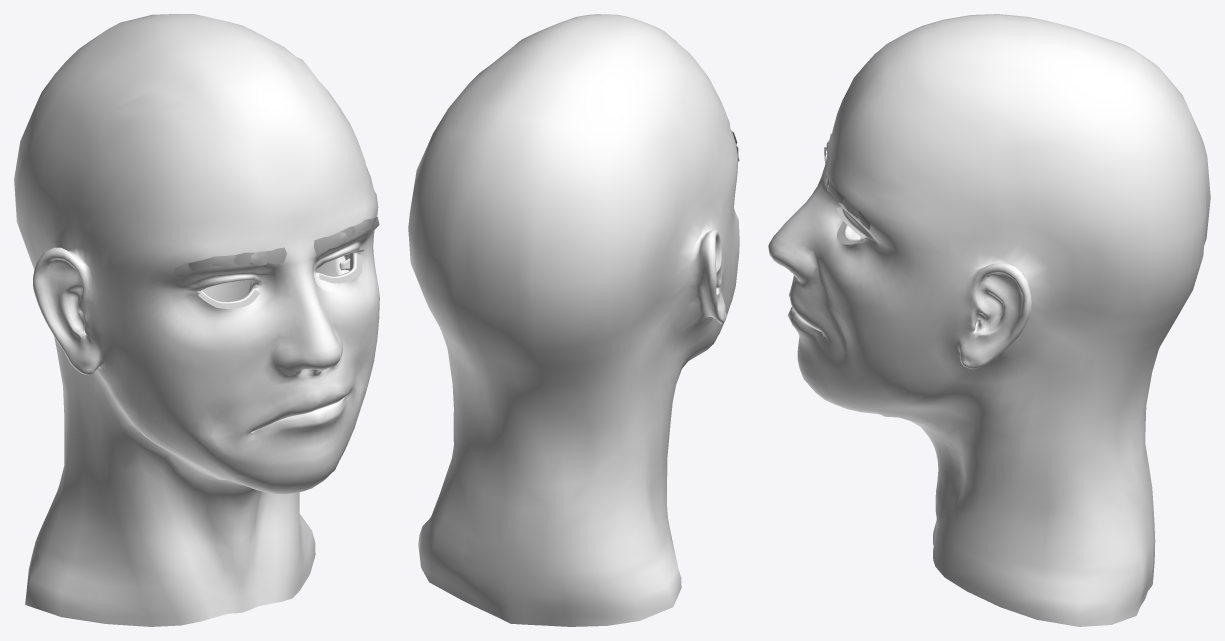
Rendered from mouthFrownRight.obj.
3 views of the same model, side by side, from view 1: azimuth 30°, elevation 25°; view 2: azimuth 150°, elevation 25°; view 3: azimuth 270°, elevation 25° (orthographic). The views are drawn at different scales.
Visible parts, largest first — view 1: FaceMesh_Plane.003; view 2: FaceMesh_Plane.003; view 3: FaceMesh_Plane.003.
Boxes of the visible parts, x1,y1,x2,y2 form: FaceMesh_Plane.003: (14,14,379,626); FaceMesh_Plane.003: (408,14,739,626); FaceMesh_Plane.003: (768,14,1210,626).
Bounding box in the file's own units: 1.54 × 2.71 × 1.94.
Materials: 5 (1 with a texture image).
